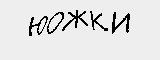Ж: (60, 8, 87, 29)
И: (110, 10, 130, 35)
К: (89, 10, 109, 31)
О: (46, 11, 64, 34)
Ю: (26, 12, 47, 37)
